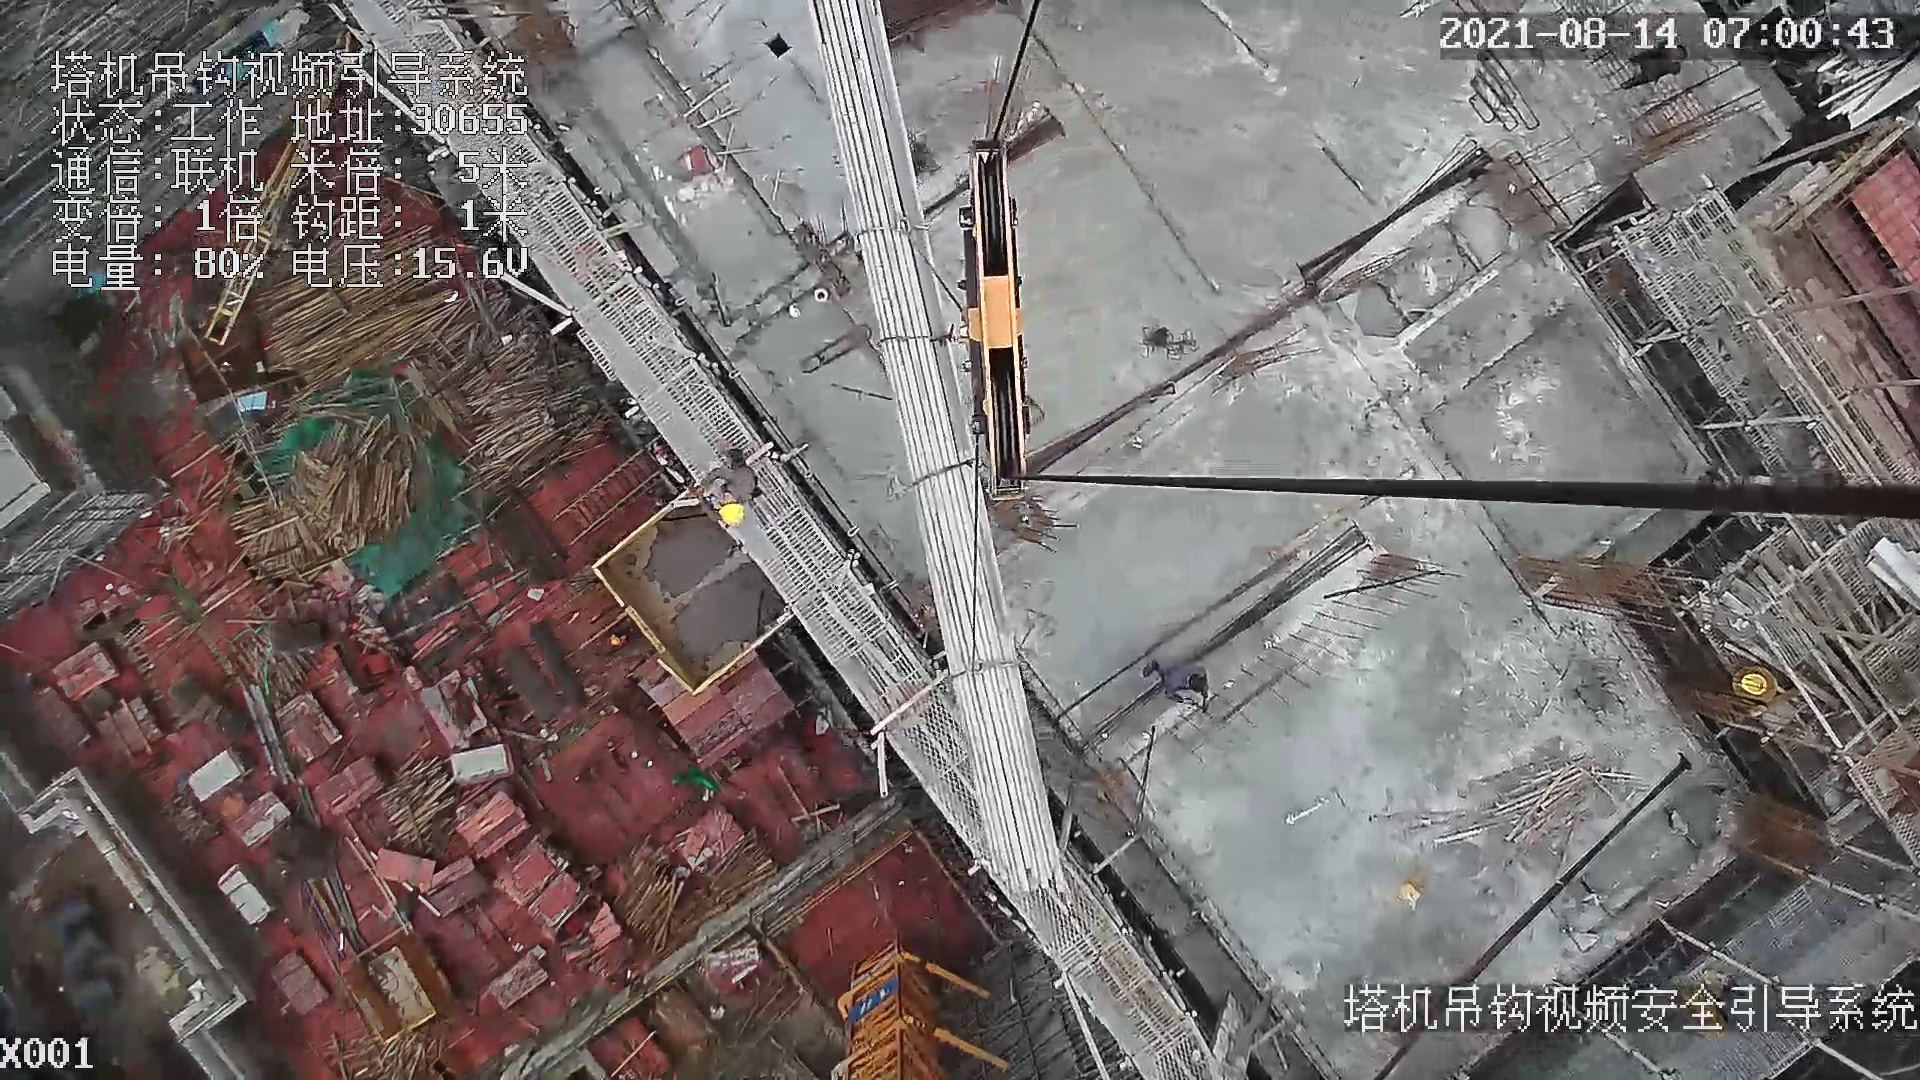helmet: (707, 495, 758, 530)
hook: (946, 136, 1044, 508)
person: (699, 433, 764, 533), (1137, 647, 1218, 715)
